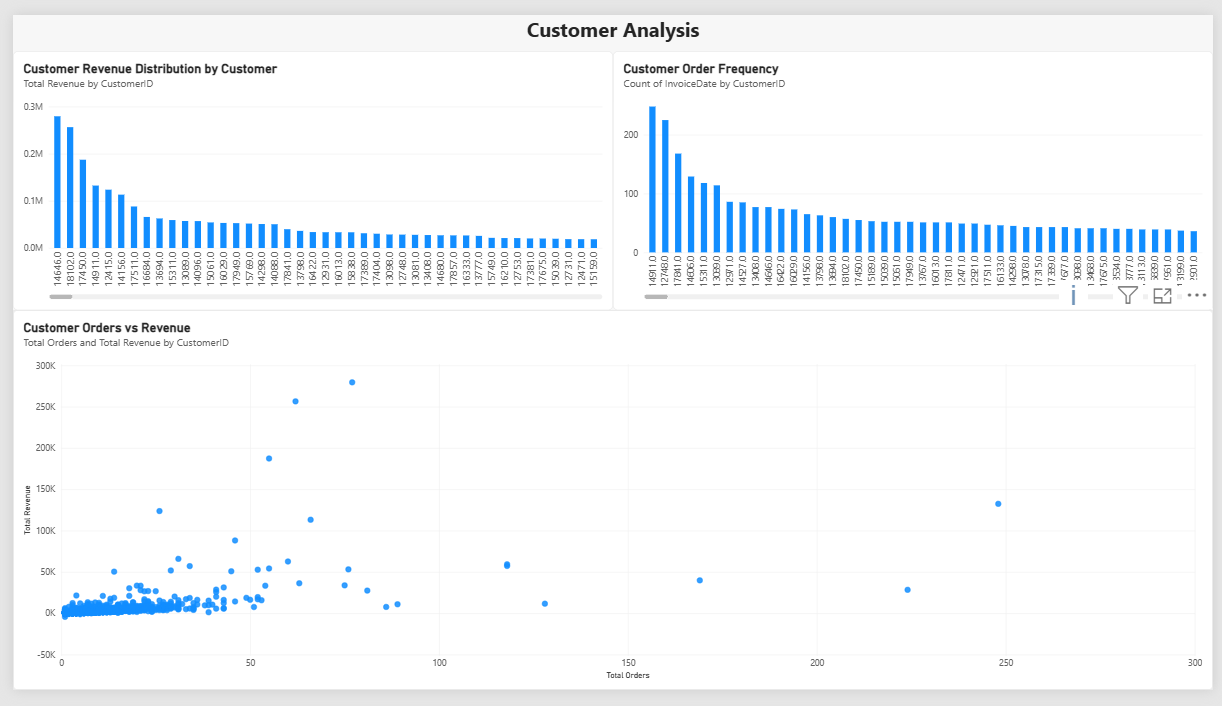

This screenshot's page, from the dashboard's own definition file:
{"tool":"powerbi","page":{"name":"Customer Analysis","canvas":[1920,1080],"ordinal":2},"visuals":[{"type":"clusteredColumnChart","title":"Customer Revenue Distribution by Customer","fields":{"Category":["sales.CustomerID"],"Y":["sales.Total Revenue"]},"box":[0,58,960,414],"z":0},{"type":"clusteredColumnChart","title":"Customer Order Frequency","fields":{"Category":["sales.CustomerID"],"Y":["Count(sales.InvoiceDate)"]},"box":[960,58,960,414],"z":1},{"type":"scatterChart","title":"Customer Orders vs Revenue","fields":{"Category":["sales.CustomerID"],"X":["sales.Total Orders"],"Y":["sales.Total Revenue"]},"box":[0,472,1920,608],"z":2},{"type":"textbox","box":[0,0,1920,58],"z":3}]}

Visuals, with their boxes in screenshot pixels (x1, y1, x2, y2), scaled from the page's 1920x1080 canvas onto the 1222x706 screenshot:
"Customer Revenue Distribution by Customer" clusteredColumnChart: bbox(0, 38, 611, 309)
"Customer Order Frequency" clusteredColumnChart: bbox(611, 38, 1221, 309)
"Customer Orders vs Revenue" scatterChart: bbox(0, 309, 1221, 705)
textbox: bbox(0, 0, 1221, 38)
